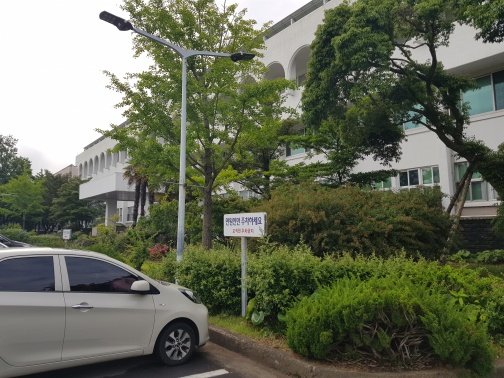Main Building of University: (64, 8, 498, 210)
